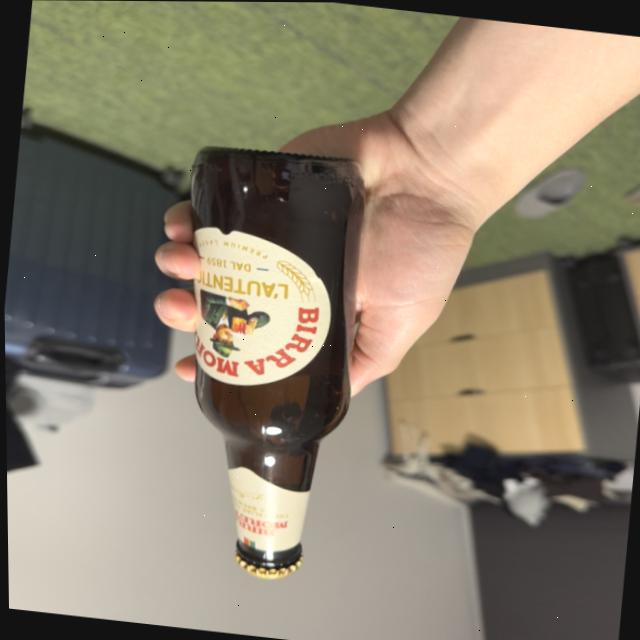beer: (141, 135, 381, 589)
